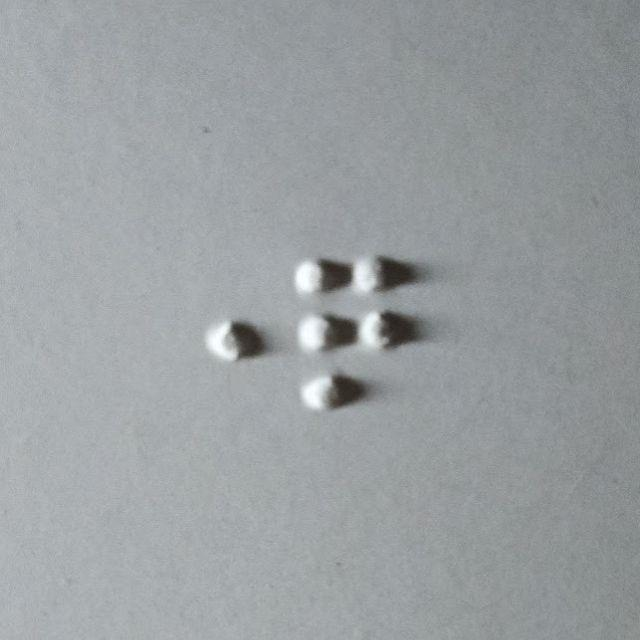dot_5: (145, 258, 254, 413)
kislap: (294, 256, 403, 412)
